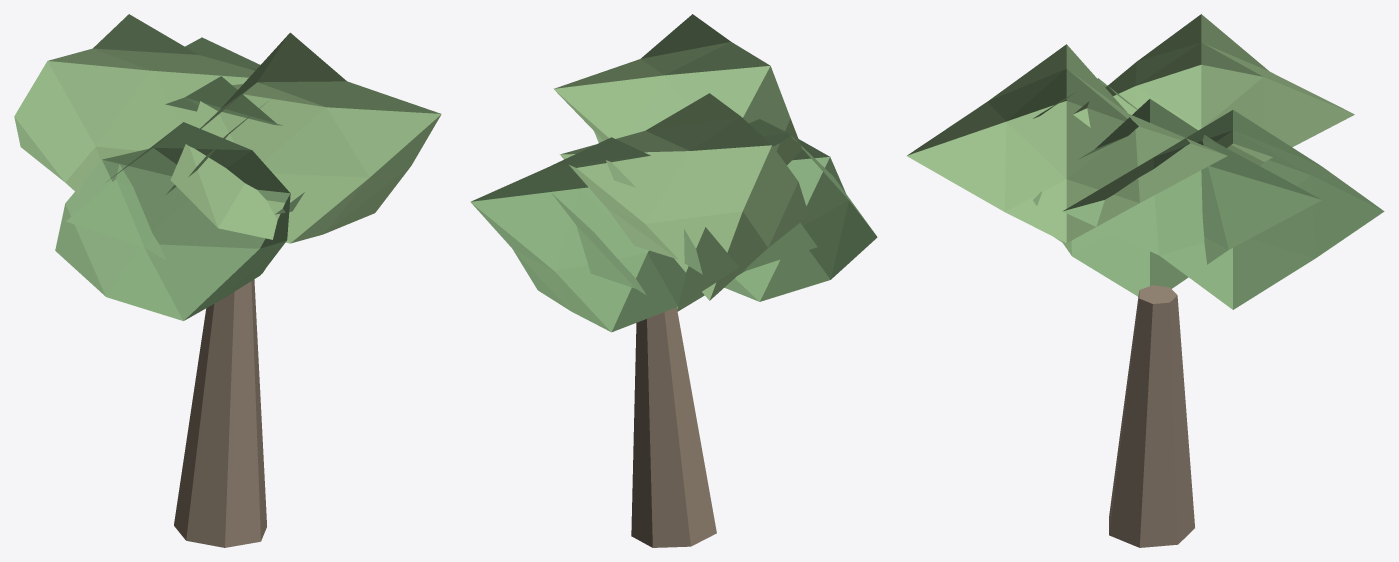
File: broadleaf_v25.glb
The picture shows the model from 3 angles, left to right: view 1: azimuth 30°, elevation 25°; view 2: azimuth 150°, elevation 25°; view 3: azimuth 270°, elevation 25°; orthographic projection. The views are drawn at different scales.
Visible parts, largest first — view 1: lod0; view 2: lod0; view 3: lod0.
Part boxes in pixels (<box>): lod0: <box>14,14,441,547</box>; lod0: <box>470,14,877,547</box>; lod0: <box>907,14,1384,547</box>.
Size of what is drawn, in the model's own units: 3.22 by 4.36 by 3.8.
